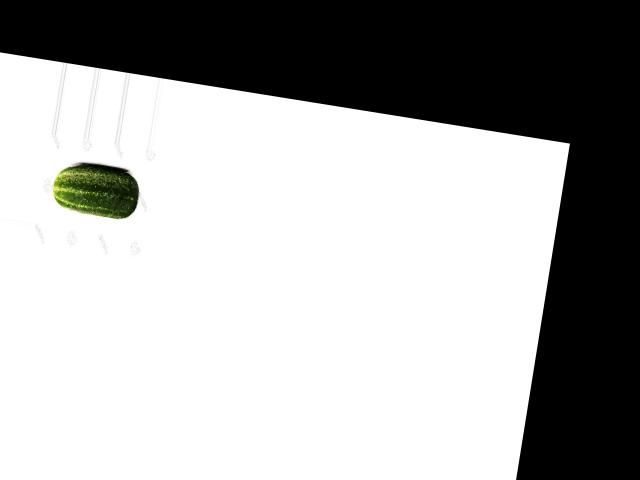cucumber: (50, 159, 143, 221)
